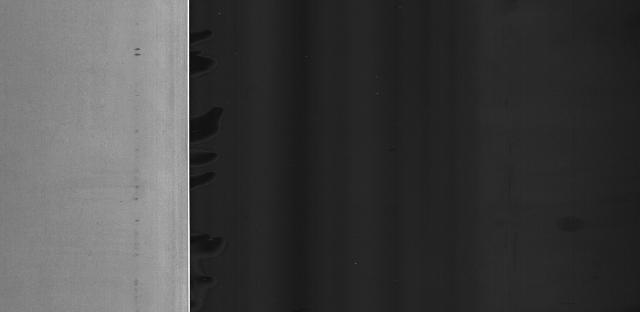oil_spot: (123, 175, 143, 311), (130, 41, 147, 62)
